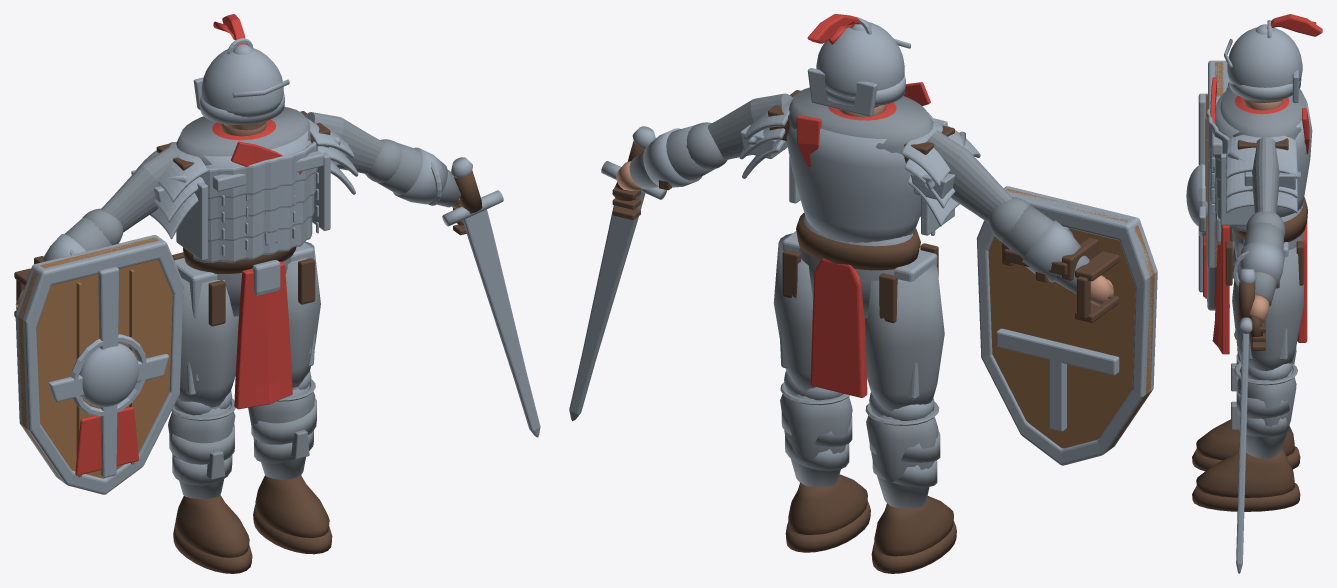
Rendered from SK_Infantry_A_v004_P035R1_Apose_Review.fbx.
The picture shows the model from 3 angles, left to right: view 1: azimuth 30°, elevation 25°; view 2: azimuth 150°, elevation 25°; view 3: azimuth 270°, elevation 25°; orthographic projection. The views are drawn at different scales.
Parts seen in each view (by area): view 1: Shield, Shield_Rim, GEO_Infantry_WaistCloth_Front_P03R1, Thigh_L, Sword, Helmet, Boot_R, Boot_L, Body_Base, Shield_Boss, ChestArmor_Lamellar_4, Shield_Reinforcement_V (+38 smaller); view 2: Shield, Shield_Rim, ChestArmor, Thigh_L, WaistCloth_Rear_P02R1, Helmet, Sword, Calf_L, Body_Base, Calf_R, Thigh_R, Boot_R (+28 smaller); view 3: Thigh_R, Helmet, Boot_R, Body_Base, Calf_R, UpperArm_R, Sword, ShoulderArmor_R_1, GEO_Infantry_WaistCloth_Front_P03R1, BootSole_R, ChestArmor, Shield_Rim (+46 smaller).
Part boxes in pixels (x1=…): Shield: x1=18, y1=237, x2=172, y2=479; Shield_Rim: x1=15, y1=235, x2=183, y2=494; GEO_Infantry_WaistCloth_Front_P03R1: x1=234, y1=261, x2=292, y2=409; Thigh_L: x1=177, y1=277, x2=238, y2=407; Sword: x1=463, y1=209, x2=540, y2=437; Helmet: x1=201, y1=48, x2=283, y2=117; Boot_R: x1=255, y1=475, x2=329, y2=537; Boot_L: x1=175, y1=495, x2=249, y2=557; Body_Base: x1=176, y1=107, x2=310, y2=165; Shield_Boss: x1=79, y1=343, x2=138, y2=407; ChestArmor_Lamellar_4: x1=200, y1=141, x2=318, y2=199; Shield_Reinforcement_V: x1=98, y1=266, x2=118, y2=477; Shield: x1=988, y1=188, x2=1154, y2=449; Shield_Rim: x1=976, y1=186, x2=1157, y2=465; ChestArmor: x1=786, y1=116, x2=929, y2=243; Thigh_L: x1=865, y1=264, x2=944, y2=411; WaistCloth_Rear_P02R1: x1=810, y1=258, x2=867, y2=397; Helmet: x1=816, y1=22, x2=904, y2=96; Sword: x1=569, y1=191, x2=645, y2=421; Calf_L: x1=866, y1=410, x2=938, y2=508; Body_Base: x1=789, y1=87, x2=933, y2=242; Calf_R: x1=780, y1=389, x2=852, y2=487; Thigh_R: x1=773, y1=233, x2=815, y2=390; Boot_R: x1=788, y1=474, x2=867, y2=534; Thigh_R: x1=1232, y1=242, x2=1304, y2=371; Helmet: x1=1227, y1=27, x2=1302, y2=87; Boot_R: x1=1196, y1=449, x2=1294, y2=497; Body_Base: x1=1220, y1=86, x2=1306, y2=139; Calf_R: x1=1237, y1=367, x2=1296, y2=458; UpperArm_R: x1=1252, y1=137, x2=1279, y2=213; Sword: x1=1236, y1=333, x2=1249, y2=573; ShoulderArmor_R_1: x1=1225, y1=134, x2=1297, y2=178; GEO_Infantry_WaistCloth_Front_P03R1: x1=1212, y1=225, x2=1229, y2=354; BootSole_R: x1=1192, y1=483, x2=1300, y2=511; ChestArmor: x1=1215, y1=92, x2=1312, y2=217; Shield_Rim: x1=1207, y1=60, x2=1229, y2=310.
Bounding box in the file's own units: 2.01 × 1.82 × 0.4799.
